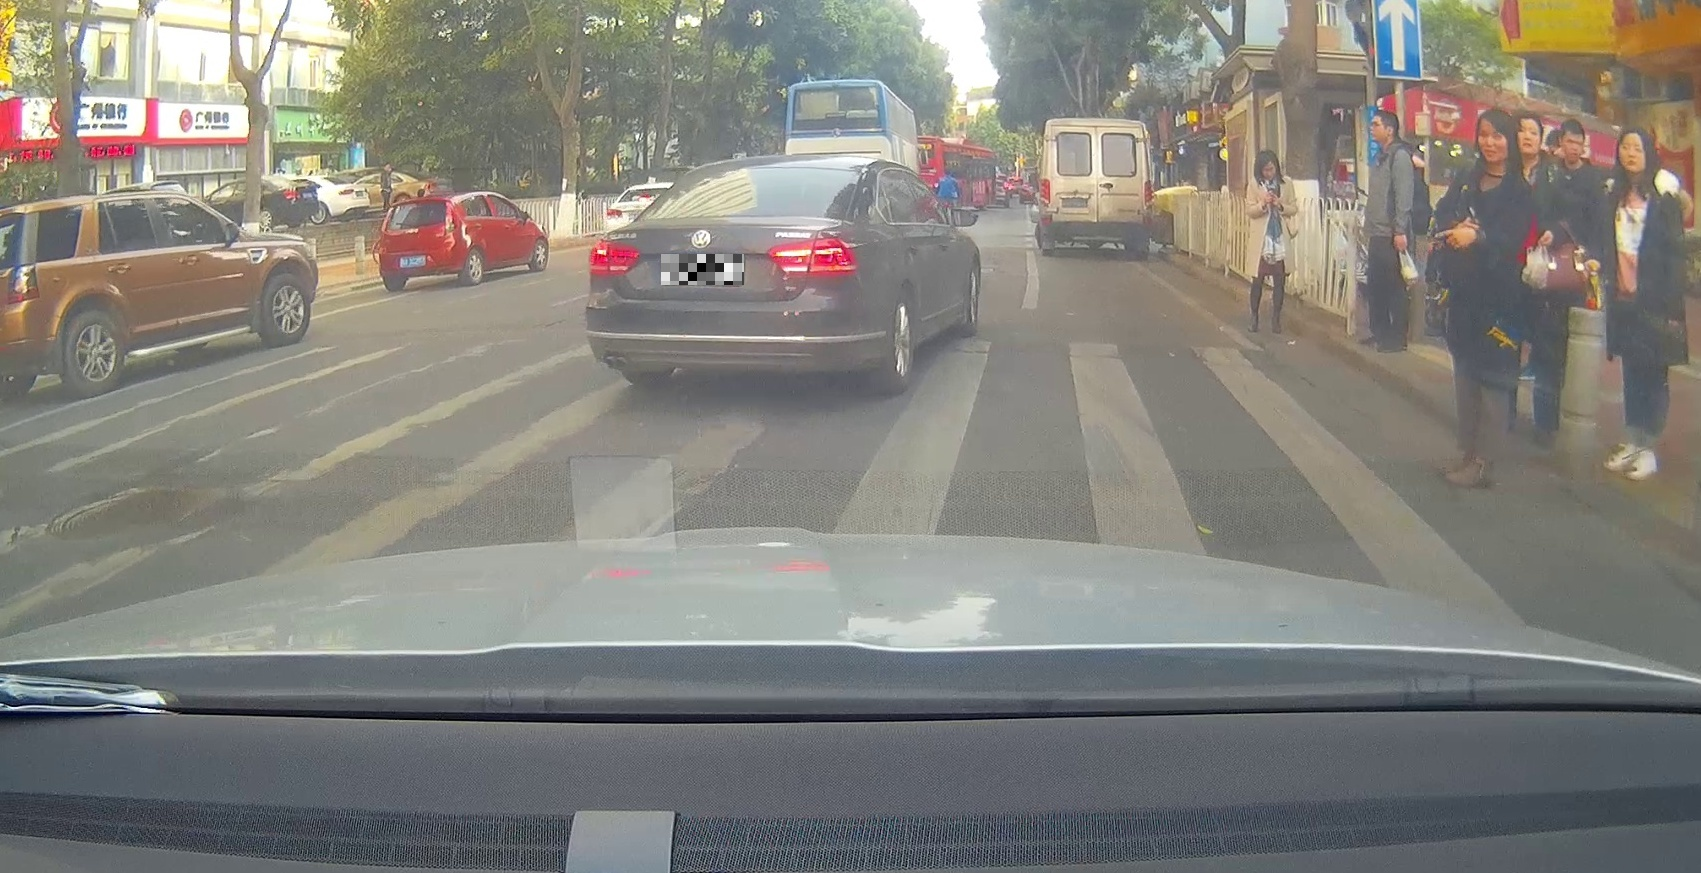L_light: (588, 239, 642, 278), (1038, 178, 1051, 205)
R_light: (767, 237, 859, 279), (1143, 179, 1154, 208)
T_light: (709, 213, 736, 219), (1089, 119, 1103, 125)
day-no: (1038, 118, 1154, 255)
day-right: (587, 154, 879, 394)
plate_1: (661, 254, 744, 285)
